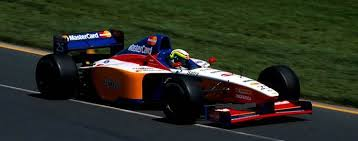FormulaOneCar: (32, 22, 324, 131)
